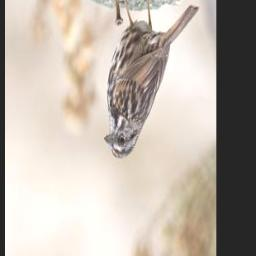Sparrow: (103, 0, 201, 164)
